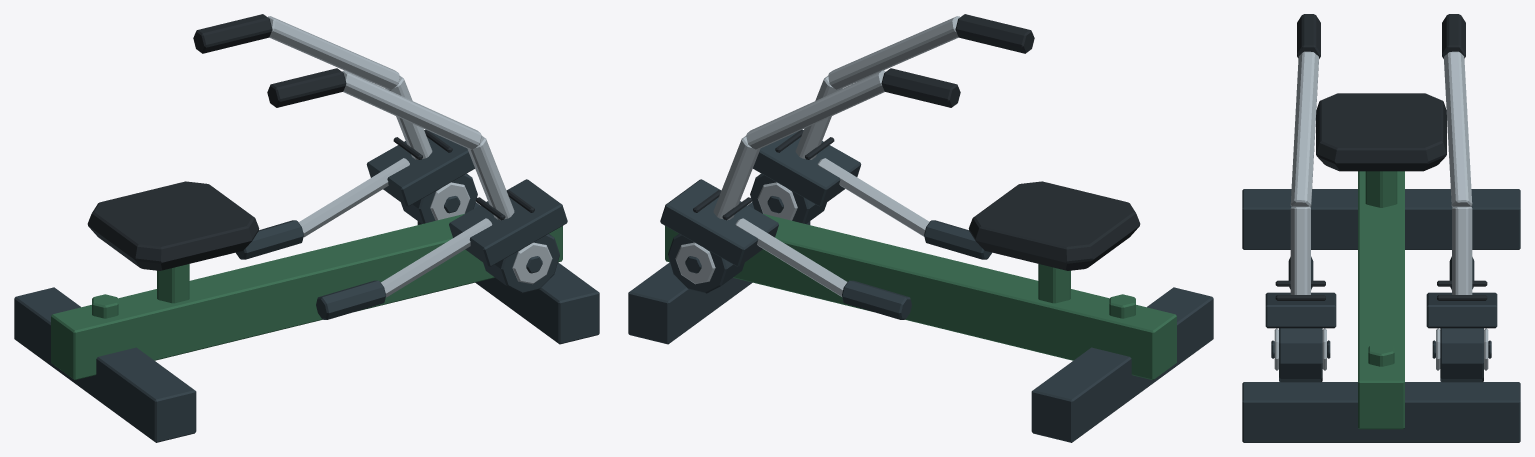
File: b09_outdoor_rowing_station.glb
3 views of the same model, side by side, from view 1: azimuth 30°, elevation 25°; view 2: azimuth 150°, elevation 25°; view 3: azimuth 270°, elevation 25° (orthographic). The views are drawn at different scales.
Visible parts, largest first — view 1: b09_outdoor_rowing_station; view 2: b09_outdoor_rowing_station; view 3: b09_outdoor_rowing_station.
Part boxes in pixels (x1,y1,x2,y2): b09_outdoor_rowing_station: (14,14,599,442); b09_outdoor_rowing_station: (628,14,1213,442); b09_outdoor_rowing_station: (1242,14,1520,442).
Bounding box in the file's own units: 1.65 × 0.9529 × 0.83.
